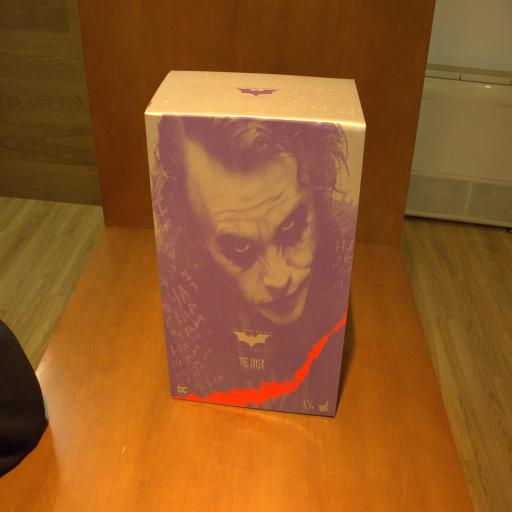Joker: (146, 70, 368, 417)
